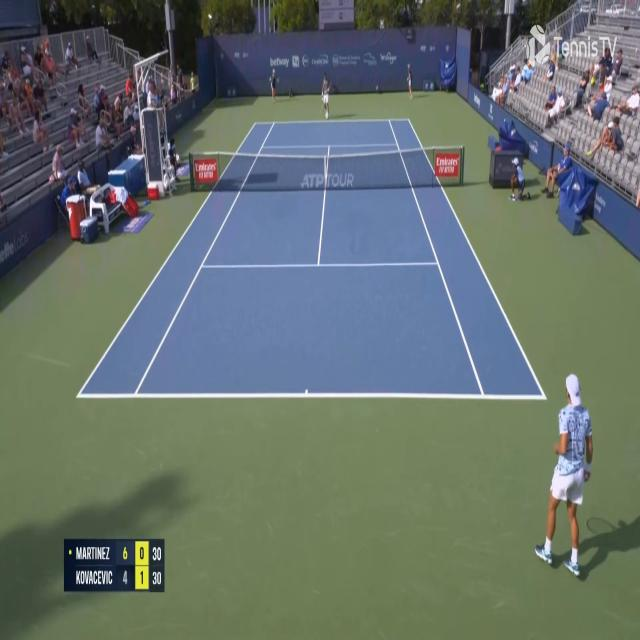tennis-player: (532, 368, 596, 581), (320, 73, 337, 121)
